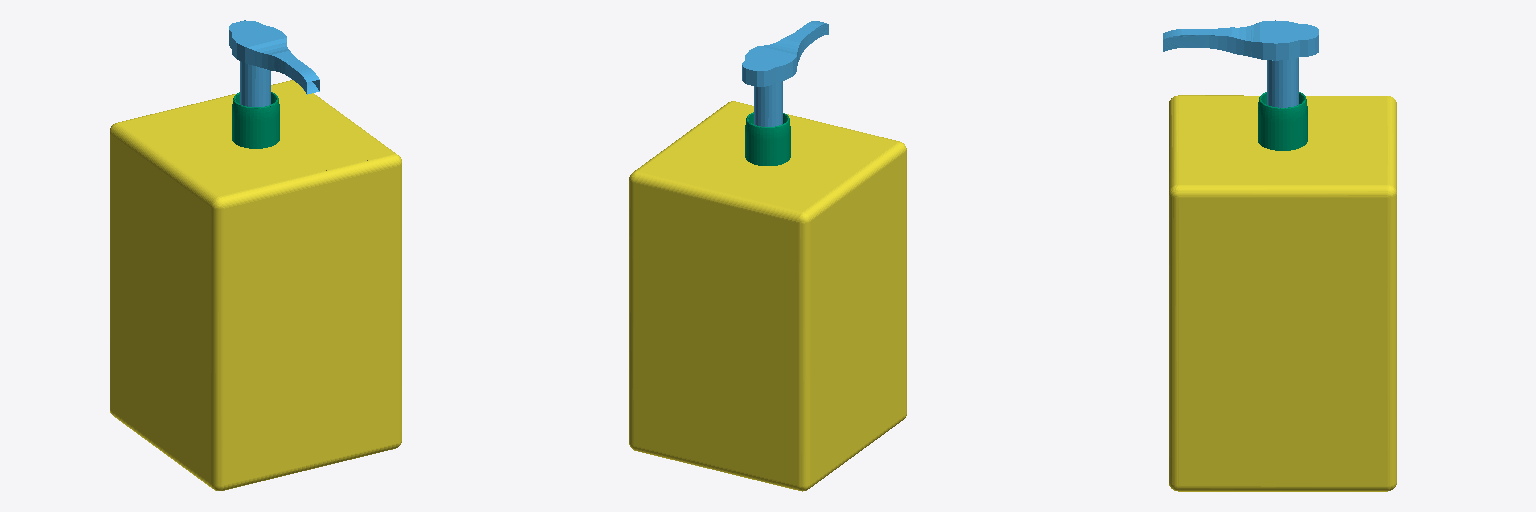
URDF robot description (partnet_b86e51b2-8659-4c4f-bfba-b1021d7831bb-0):
<?xml version="1.0" ?>
<robot name="partnet_b86e51b2-8659-4c4f-bfba-b1021d7831bb-0">
	<link name="base"/>
	<link name="link_0">
		<visual name="pressing_lid-1">
			<origin xyz="0.005038500000000001 0 0.0040020000000000056"/>
			<geometry>
				<mesh filename="textured_objs/original_6.obj"/>
			</geometry>
		</visual>
		<visual name="pressing_lid-1">
			<origin xyz="0.005038500000000001 0 0.0040020000000000056"/>
			<geometry>
				<mesh filename="textured_objs/original_7.obj"/>
			</geometry>
		</visual>
		<collision>
			<origin xyz="0.005038500000000001 0 0.0040020000000000056"/>
			<geometry>
				<mesh filename="textured_objs/original_6.obj"/>
			</geometry>
		</collision>
		<collision>
			<origin xyz="0.005038500000000001 0 0.0040020000000000056"/>
			<geometry>
				<mesh filename="textured_objs/original_7.obj"/>
			</geometry>
		</collision>
	</link>
	<joint name="joint_0" type="continuous">
		<origin xyz="0.0 0 0.0"/>
		<axis xyz="0 1 0"/>
		<child link="link_0"/>
		<parent link="link_0_helper"/>
	</joint>
	<link name="link_1">
		<visual name="head-3">
			<origin xyz="0.005038500000000001 0 0.0040020000000000056"/>
			<geometry>
				<mesh filename="textured_objs/original_2.obj"/>
			</geometry>
		</visual>
		<visual name="head-3">
			<origin xyz="0.005038500000000001 0 0.0040020000000000056"/>
			<geometry>
				<mesh filename="textured_objs/original_3.obj"/>
			</geometry>
		</visual>
		<collision>
			<origin xyz="0.005038500000000001 0 0.0040020000000000056"/>
			<geometry>
				<mesh filename="textured_objs/original_2.obj"/>
			</geometry>
		</collision>
		<collision>
			<origin xyz="0.005038500000000001 0 0.0040020000000000056"/>
			<geometry>
				<mesh filename="textured_objs/original_3.obj"/>
			</geometry>
		</collision>
	</link>
	<joint name="joint_1" type="continuous">
		<origin xyz="0.0 0 0.0"/>
		<axis xyz="0 1 0"/>
		<child link="link_1"/>
		<parent link="link_1_helper"/>
	</joint>
	<link name="link_2">
		<visual name="base_body-4">
			<origin xyz="0 0 0"/>
			<geometry>
				<mesh filename="textured_objs/original_4.obj"/>
			</geometry>
		</visual>
		<collision>
			<origin xyz="0 0 0"/>
			<geometry>
				<mesh filename="textured_objs/original_4.obj"/>
			</geometry>
		</collision>
	</link>
	<joint name="joint_2" type="fixed">
		<origin rpy="1.570796326794897 0 -1.570796326794897" xyz="0 0 0"/>
		<child link="link_2"/>
		<parent link="base"/>
	</joint>
	<link name="link_0_helper">
		<inertial>
			<origin xyz="0 0 0"/>
			<mass value="1e-6"/>
			<inertia ixx="1e-10" ixy="0" ixz="0" iyy="1e-10" iyz="0" izz="1e-10"/>
		</inertial>
	</link>
	<joint name="joint_3" type="prismatic">
		<origin xyz="0.0 0 0.0"/>
		<axis xyz="0 -1 0"/>
		<child link="link_0_helper"/>
		<parent link="link_1"/>
		<limit lower="0" upper="0.2"/>
	</joint>
	<link name="link_1_helper">
		<inertial>
			<origin xyz="0 0 0"/>
			<mass value="1e-6"/>
			<inertia ixx="1e-10" ixy="0" ixz="0" iyy="1e-10" iyz="0" izz="1e-10"/>
		</inertial>
	</link>
	<joint name="joint_4" type="prismatic">
		<origin xyz="-0.005038500000000001 0 -0.0040020000000000056"/>
		<axis xyz="0 1 0"/>
		<child link="link_1_helper"/>
		<parent link="link_2"/>
		<limit lower="0" upper="0.19200000000000017"/>
	</joint>
</robot>

--- Facts derived from the render (not from the file) ---
The picture shows the robot from 3 angles, left to right: view 1: azimuth 30°, elevation 25°; view 2: azimuth 150°, elevation 25°; view 3: azimuth 270°, elevation 25°; orthographic projection.
Model partnet_b86e51b2-8659-4c4f-bfba-b1021d7831bb-0 with 6 links and 5 joints (2 continuous, 2 prismatic, 1 fixed), rooted at base, posed every joint at zero.
Links seen in each view (by area): view 1: link_2, link_0, link_1; view 2: link_2, link_0, link_1; view 3: link_2, link_0, link_1.
Link boxes in pixels (x1,y1,x2,y2): link_2: (110,80,401,490); link_0: (229,20,319,106); link_1: (232,92,279,148); link_2: (629,101,906,491); link_0: (742,21,828,126); link_1: (745,112,790,165); link_2: (1169,95,1396,491); link_0: (1163,20,1318,107); link_1: (1258,92,1307,150).
Size in the robot's own frame: 0.8067 by 0.8264 by 1.62 metres.
5 mesh visuals loaded from 5 distinct referenced files (5 OBJ).
